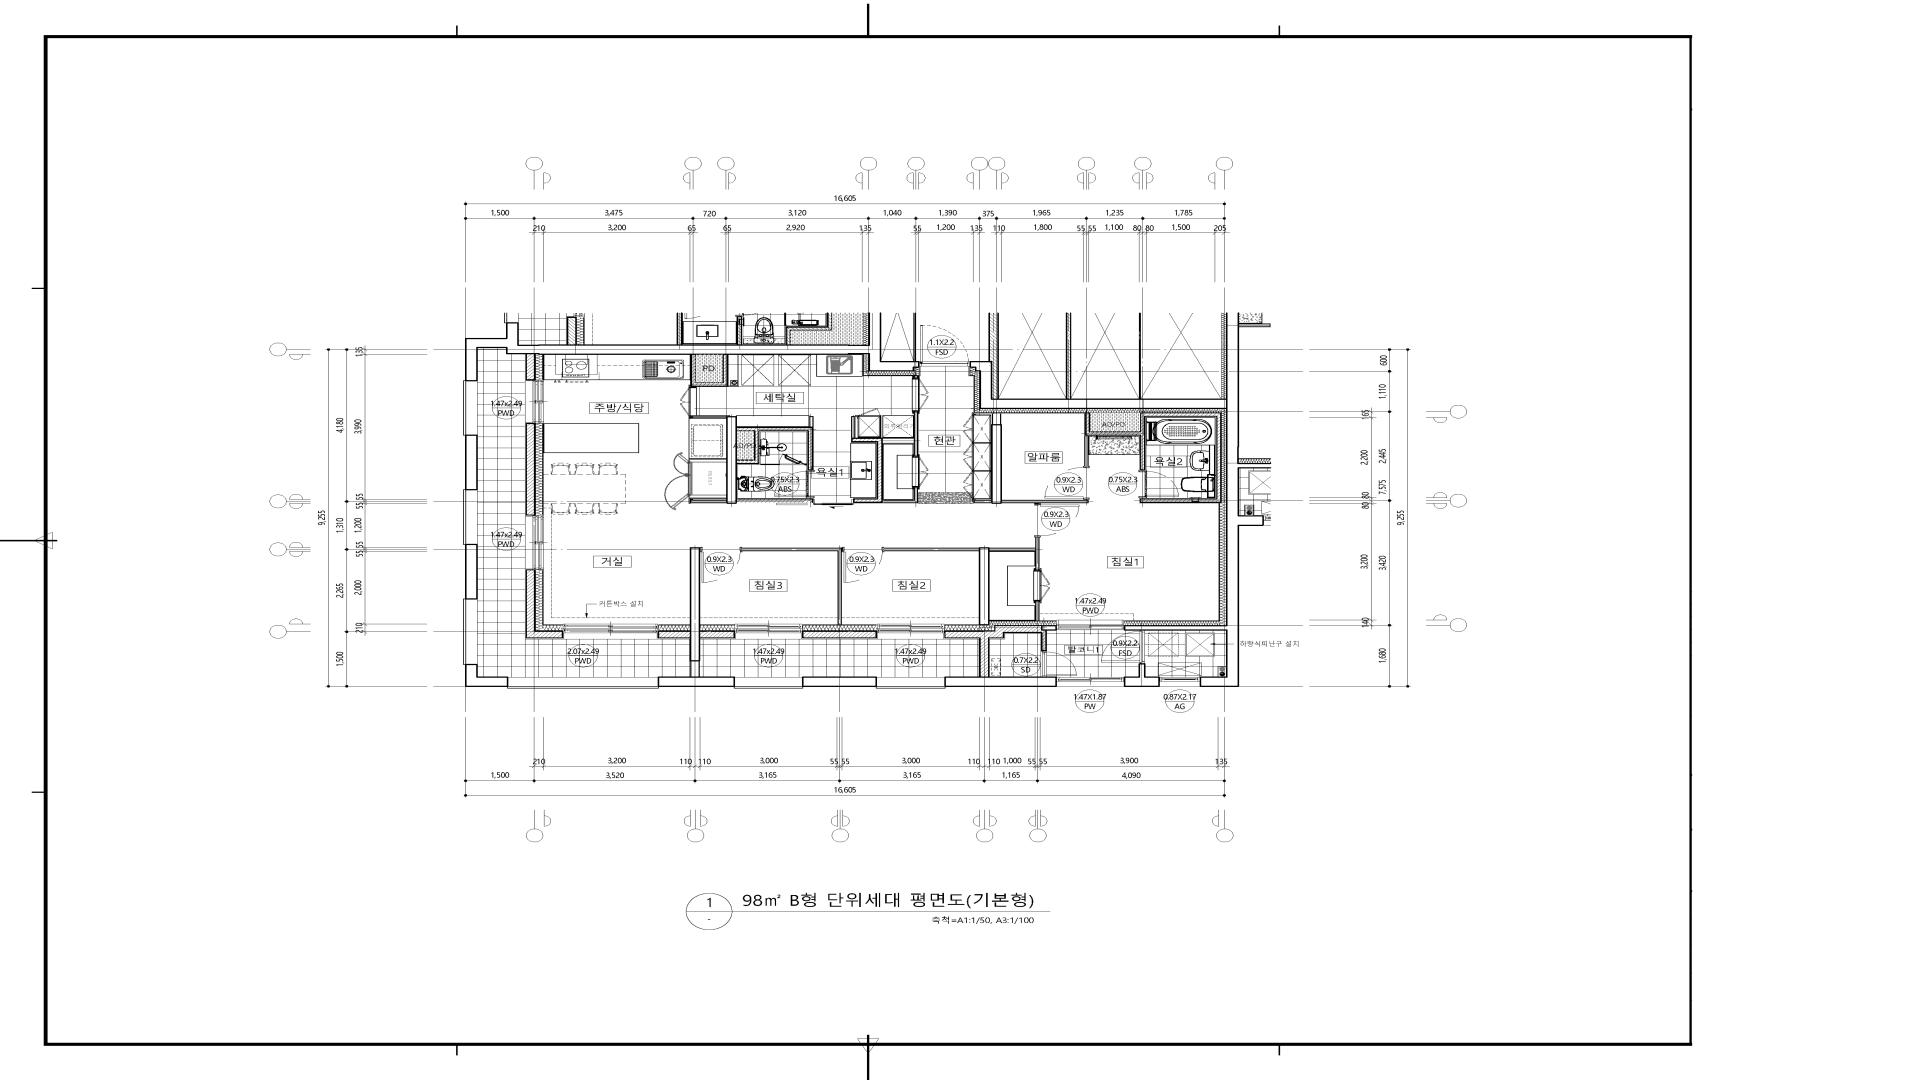background: (0, 0, 1920, 1080)
door: (919, 324, 971, 367), (1034, 504, 1080, 537), (841, 547, 884, 583), (1044, 467, 1089, 500), (700, 547, 741, 583), (1101, 630, 1145, 663), (774, 471, 815, 498), (1138, 471, 1179, 498), (1040, 651, 1077, 676), (911, 378, 928, 413), (913, 456, 930, 488), (1033, 570, 1050, 601), (680, 386, 696, 415), (778, 454, 804, 465), (812, 500, 853, 505)
wall: (969, 313, 1240, 687), (465, 313, 919, 381), (884, 537, 1040, 625), (1084, 413, 1221, 504), (973, 413, 1089, 504), (741, 547, 841, 625), (944, 625, 1056, 676), (688, 415, 737, 504), (737, 426, 814, 471), (526, 570, 563, 638), (851, 438, 882, 504), (882, 413, 919, 456), (690, 547, 700, 676), (690, 355, 728, 386), (944, 676, 1056, 687), (465, 665, 508, 687), (989, 313, 1000, 398), (526, 423, 535, 516), (1124, 663, 1159, 687), (658, 676, 735, 687), (803, 676, 876, 687), (465, 435, 477, 489), (465, 545, 477, 599), (802, 630, 877, 638), (882, 488, 918, 504), (1065, 313, 1071, 398), (737, 498, 814, 504), (700, 630, 735, 638), (658, 630, 690, 638), (526, 355, 535, 381), (1084, 436, 1089, 467), (914, 313, 916, 361), (1139, 313, 1141, 398), (851, 417, 856, 438), (1035, 601, 1040, 621), (761, 464, 778, 465), (913, 376, 919, 378), (804, 464, 807, 465)
window: (508, 678, 659, 688), (563, 624, 658, 640), (735, 624, 802, 640), (877, 624, 944, 640), (525, 516, 543, 570), (463, 599, 477, 665), (876, 676, 945, 688), (735, 676, 803, 688), (463, 489, 477, 545), (463, 381, 477, 435), (525, 381, 543, 423), (1056, 620, 1124, 630), (1056, 676, 1124, 687), (1159, 676, 1200, 687)
